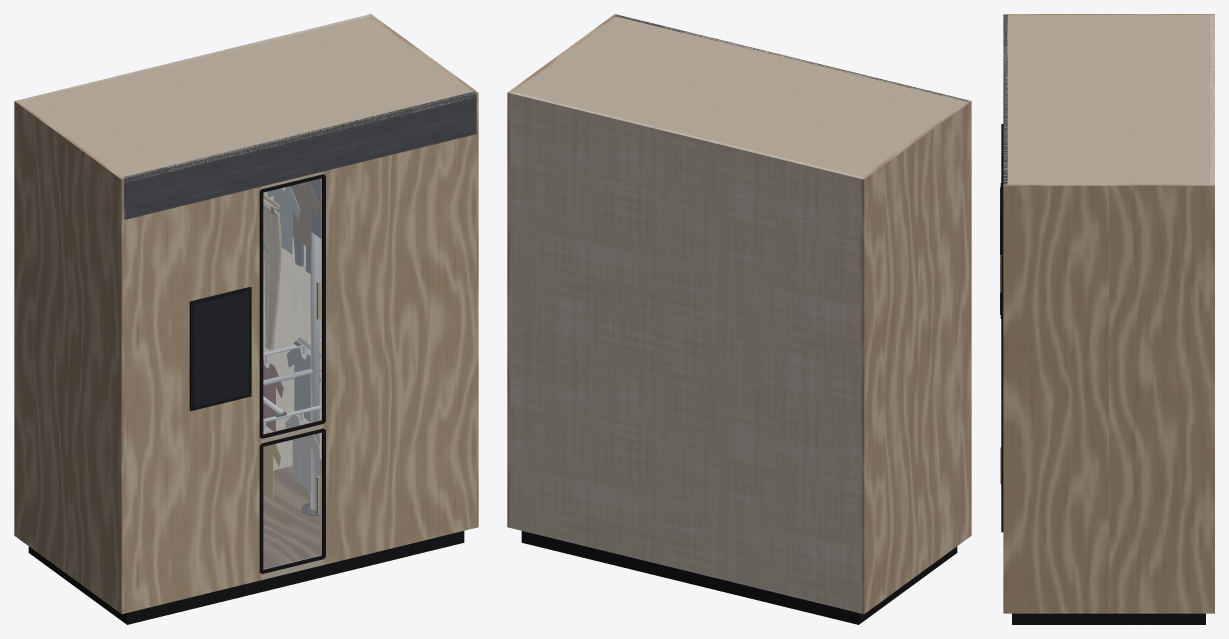
The model's file is wardrobe-v2.glb.
3 renders of one model, left to right at view 1: azimuth 30°, elevation 25°; view 2: azimuth 150°, elevation 25°; view 3: azimuth 270°, elevation 25°, orthographic.
Visible parts, largest first — view 1: front_right, side_left, front_left, roof, power_bar, glass_upper, glass_lower, back, screen_display, plinth, floor, kolumna_+0.35 (+12 smaller); view 2: back, side_left, roof, plinth, side_right, power_bar; view 3: side_right, roof, plinth, back, power_bar, trim_upper_r, trim_lower_r.
Part boxes in pixels (x1=…): front_right: x1=321, y1=134, x2=476, y2=564; side_left: x1=14, y1=100, x2=125, y2=614; front_left: x1=124, y1=187, x2=260, y2=613; roof: x1=17, y1=16, x2=476, y2=182; power_bar: x1=123, y1=91, x2=476, y2=219; glass_upper: x1=263, y1=178, x2=321, y2=434; glass_lower: x1=263, y1=432, x2=321, y2=569; back: x1=17, y1=14, x2=370, y2=470; screen_display: x1=194, y1=291, x2=248, y2=407; plinth: x1=28, y1=531, x2=464, y2=624; floor: x1=263, y1=459, x2=321, y2=568; kolumna_+0.35: x1=310, y1=232, x2=319, y2=509; back: x1=509, y1=91, x2=863, y2=613; side_left: x1=860, y1=100, x2=971, y2=614; roof: x1=509, y1=15, x2=968, y2=182; plinth: x1=521, y1=531, x2=957, y2=624; side_right: x1=507, y1=14, x2=617, y2=527; power_bar: x1=615, y1=14, x2=968, y2=101; side_right: x1=1003, y1=184, x2=1214, y2=613; roof: x1=1003, y1=15, x2=1214, y2=184; plinth: x1=1012, y1=613, x2=1205, y2=624; back: x1=1210, y1=15, x2=1214, y2=184; power_bar: x1=1003, y1=15, x2=1007, y2=184; trim_upper_r: x1=1001, y1=155, x2=1003, y2=398; trim_lower_r: x1=1001, y1=406, x2=1003, y2=531.
Bounding box in the file's own units: 1.82 × 2.2 × 0.964.
Materials: 136 (122 with a texture image).
